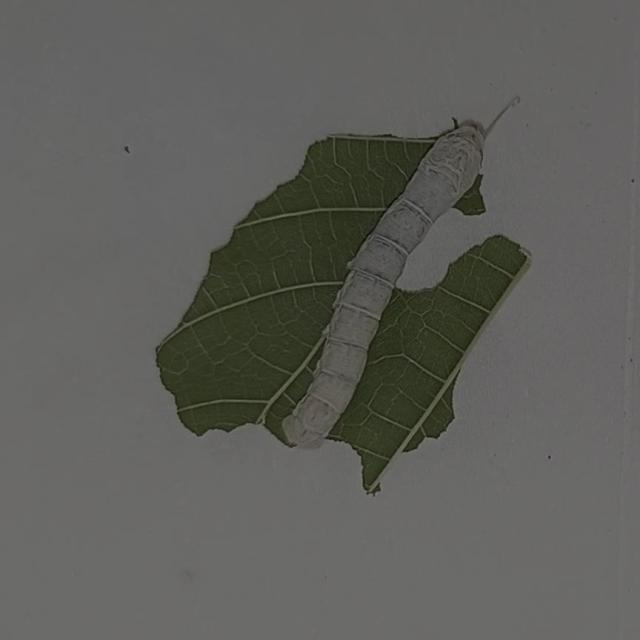Healthy: (270, 105, 492, 459)
